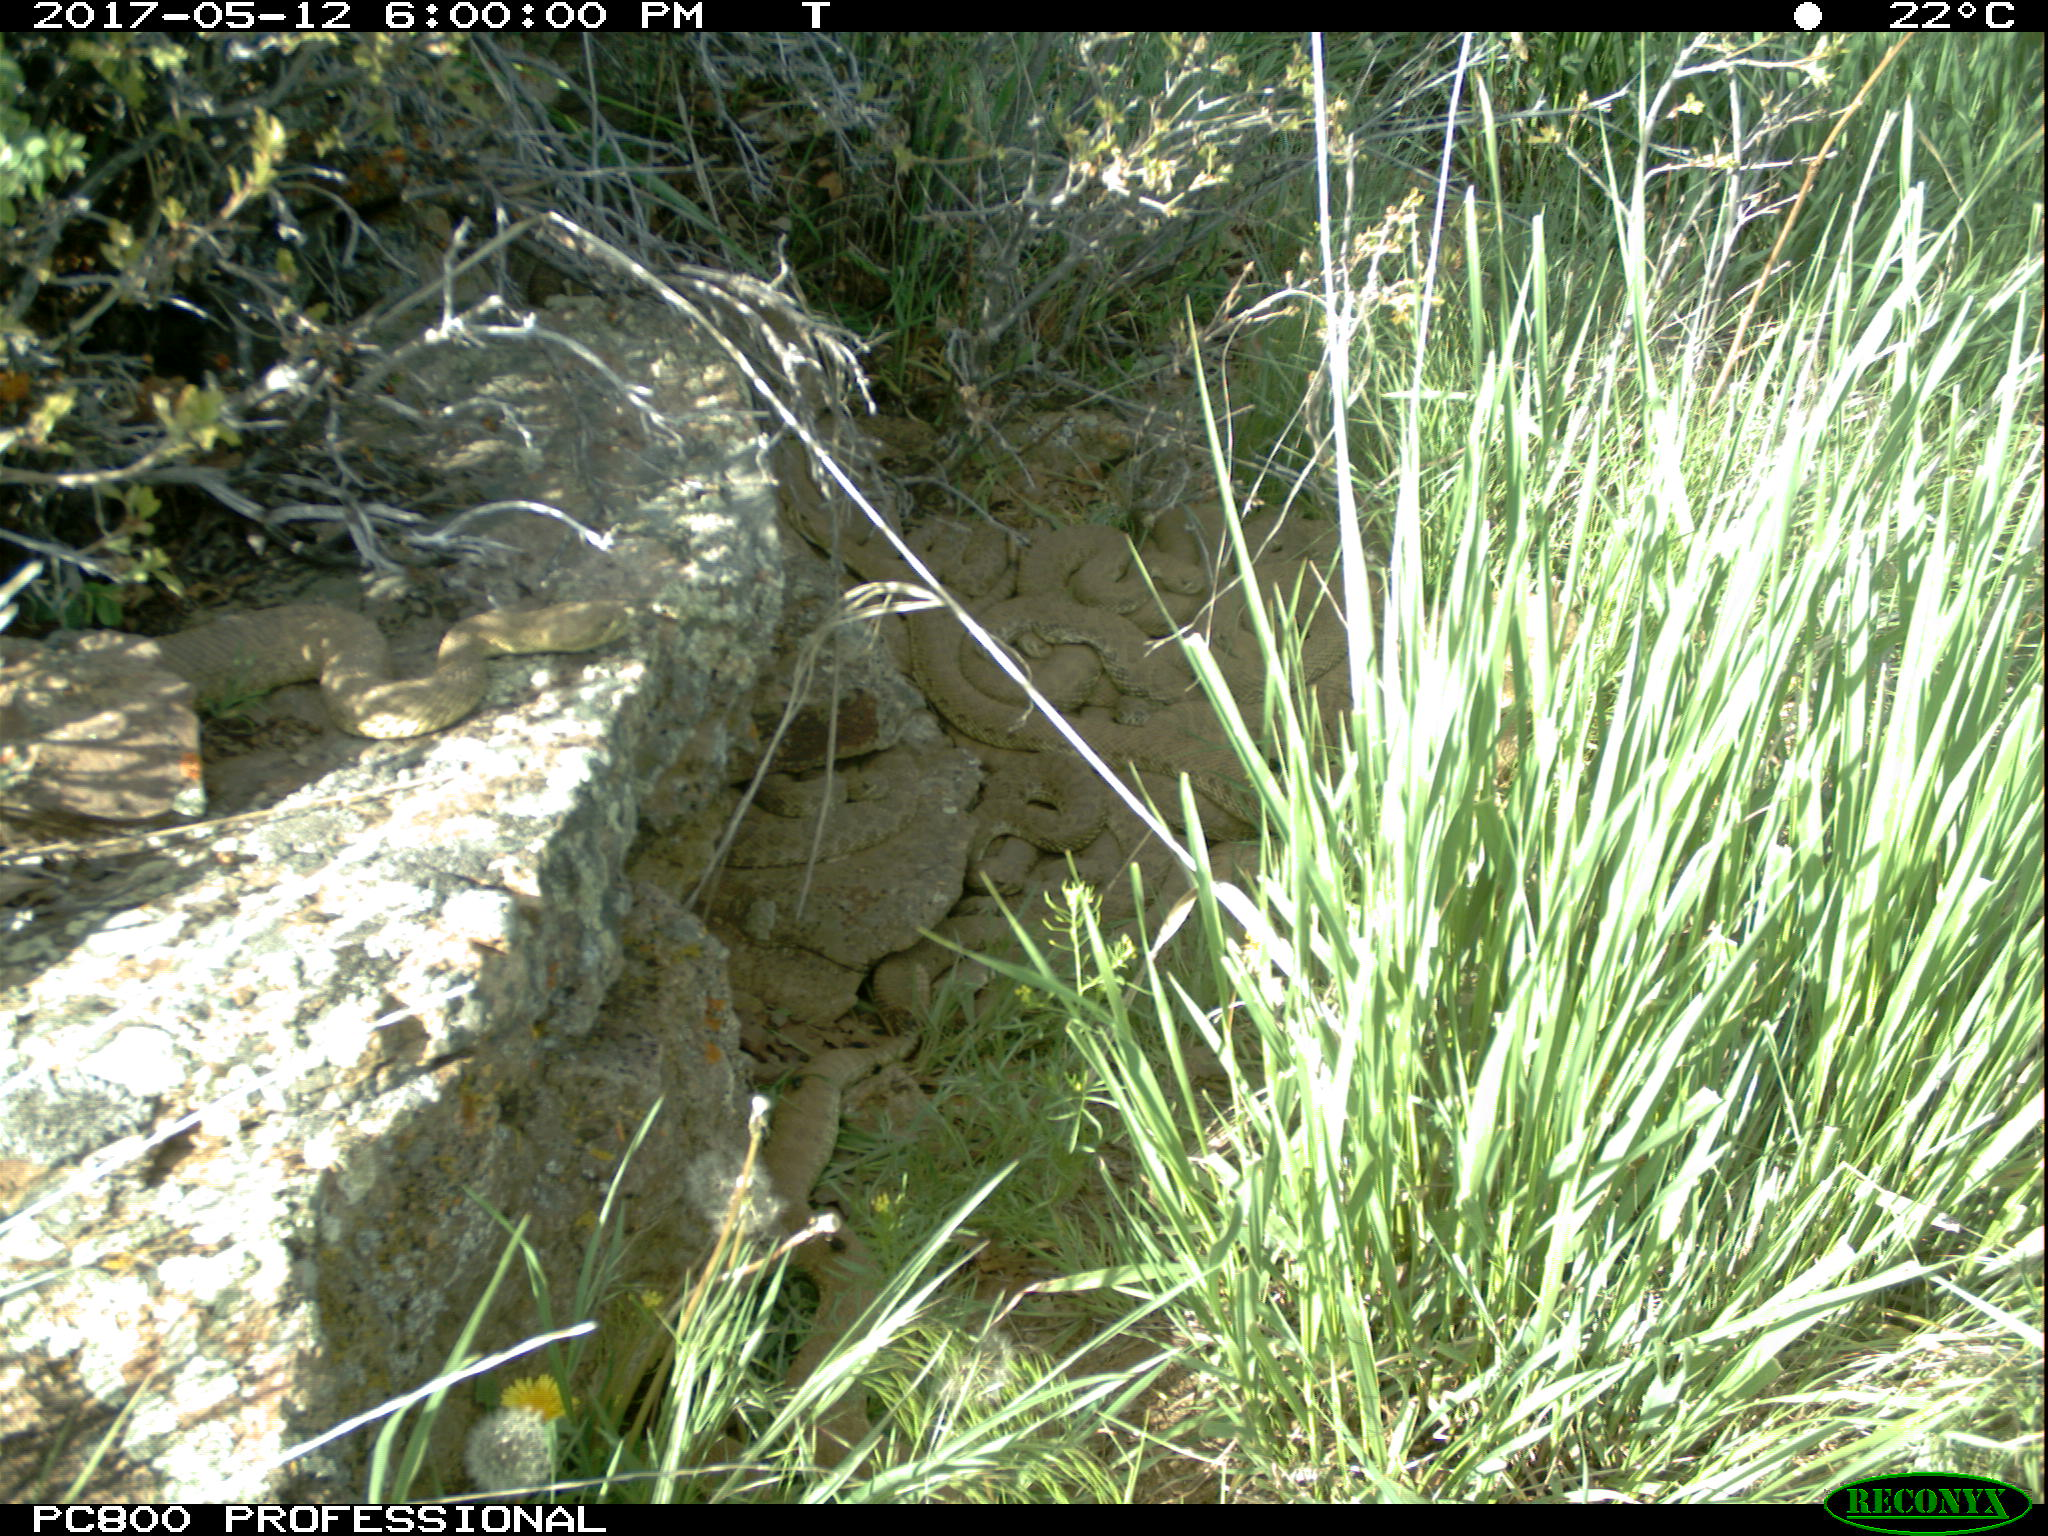snake: (901, 608, 1311, 852), (732, 966, 906, 1467), (135, 594, 643, 741), (872, 849, 1185, 1016), (1213, 482, 1400, 728), (782, 437, 1011, 605), (1013, 532, 1234, 662), (711, 763, 919, 866)
